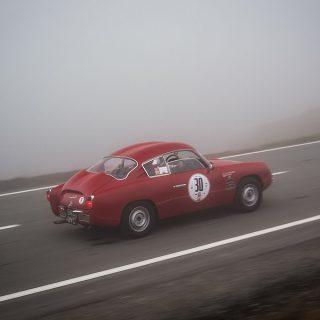car: (44, 139, 274, 239)
